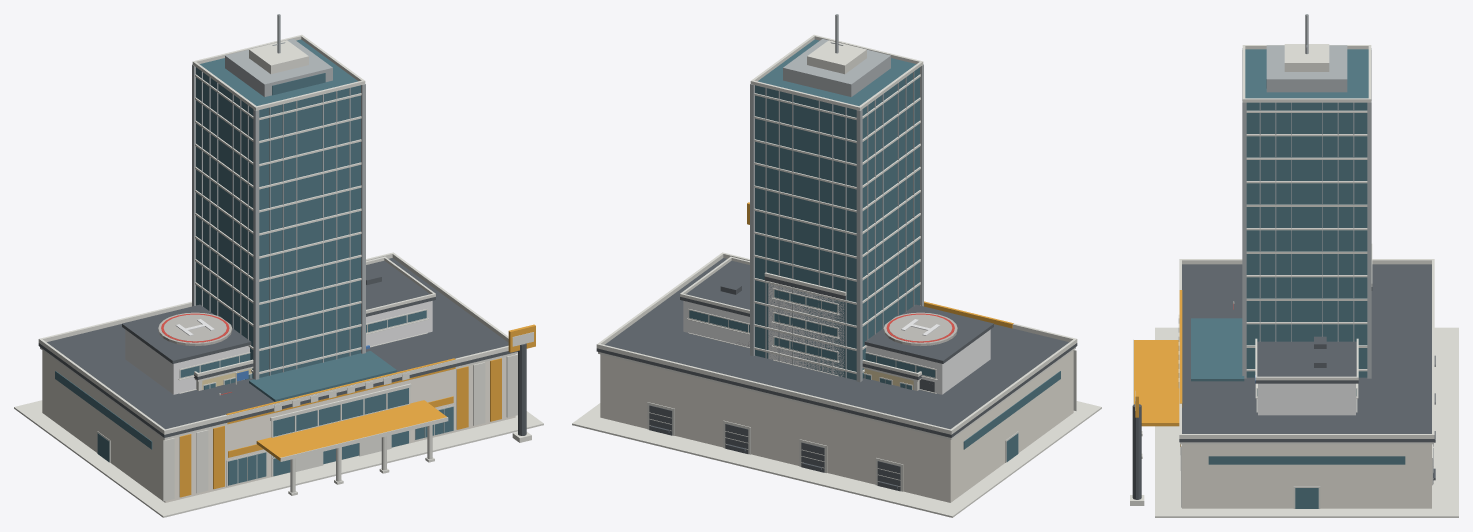
File: landscape-kit-v5.glb
3 views of the same model, side by side, from view 1: azimuth 30°, elevation 25°; view 2: azimuth 150°, elevation 25°; view 3: azimuth 270°, elevation 25° (orthographic).
Parts seen in each view (by area): view 1: Office_DarkGlass, Mall_WhiteTrim, Mall_DarkRoof, Mall_Cream, Office_GalvSteel, Mall_DarkGlass, Mall_SafetyOrange, Office_WhiteTrim, Hospital_DarkRoof, Hospital_PaintWhite, Hospital_Concrete, Hospital_WhiteTrim (+1 smaller); view 2: Office_DarkGlass, Mall_Cream, Mall_DarkRoof, Mall_WhiteTrim, Office_GalvSteel, Office_WhiteTrim, Hospital_PaintWhite, Hospital_DarkRoof, Hospital_WhiteTrim, Hospital_DarkGlass, Hospital_Concrete, Mall_DarkGlass (+1 smaller); view 3: Office_DarkGlass, Mall_DarkRoof, Mall_Cream, Mall_WhiteTrim, Office_GalvSteel, Office_WhiteTrim, Mall_DarkGlass, Mall_SafetyOrange, Hospital_DarkRoof, Hospital_PaintWhite, Hospital_WhiteTrim.
Part boxes in pixels (box(x1,y1,x2,y2)): Office_DarkGlass: box(196, 39, 360, 378); Mall_WhiteTrim: box(14, 252, 543, 517); Mall_DarkRoof: box(38, 258, 526, 437); Mall_Cream: box(42, 350, 515, 502); Office_GalvSteel: box(192, 14, 365, 379); Mall_DarkGlass: box(55, 351, 453, 485); Mall_SafetyOrange: box(179, 324, 535, 497); Office_WhiteTrim: box(192, 34, 365, 374); Hospital_DarkRoof: box(122, 260, 435, 363); Hospital_PaintWhite: box(125, 301, 432, 394); Hospital_Concrete: box(158, 312, 232, 346); Hospital_WhiteTrim: box(178, 256, 435, 393); Office_DarkGlass: box(755, 39, 919, 380); Mall_Cream: box(600, 350, 1073, 502); Mall_DarkRoof: box(596, 258, 1077, 491); Mall_WhiteTrim: box(572, 252, 1101, 517); Office_GalvSteel: box(750, 14, 923, 382); Office_WhiteTrim: box(750, 34, 923, 374); Hospital_PaintWhite: box(683, 283, 990, 394); Hospital_DarkRoof: box(680, 260, 993, 363); Hospital_WhiteTrim: box(680, 256, 937, 393); Hospital_DarkGlass: box(689, 289, 935, 377); Hospital_Concrete: box(883, 312, 957, 346); Mall_DarkGlass: box(963, 371, 1060, 461); Office_DarkGlass: box(1245, 49, 1368, 377); Mall_DarkRoof: box(1132, 264, 1435, 499); Mall_Cream: box(1182, 444, 1431, 508); Mall_WhiteTrim: box(1130, 259, 1458, 517); Office_GalvSteel: box(1242, 14, 1371, 378); Office_WhiteTrim: box(1242, 44, 1371, 371); Mall_DarkGlass: box(1191, 318, 1405, 508); Mall_SafetyOrange: box(1134, 290, 1182, 446); Hospital_DarkRoof: box(1255, 287, 1372, 383); Hospital_PaintWhite: box(1258, 383, 1355, 415); Hospital_WhiteTrim: box(1255, 244, 1372, 412).
Bounding box in the file's own units: 50 × 50.5 × 36.8.
